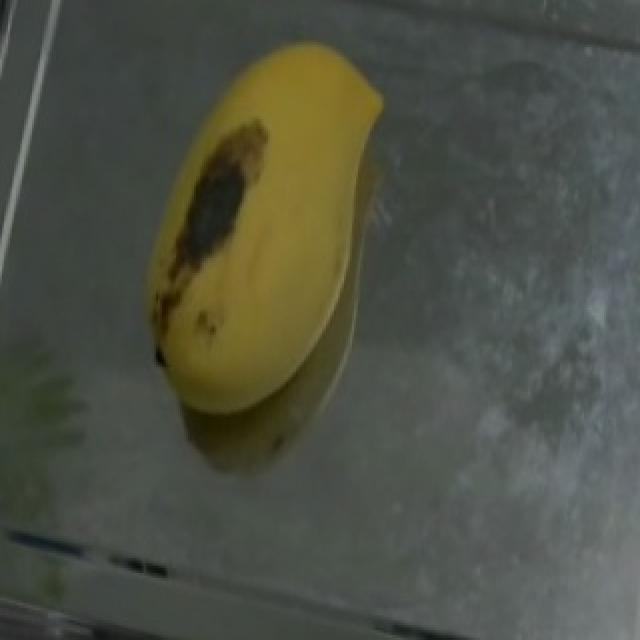fruit: (160, 10, 450, 404)
